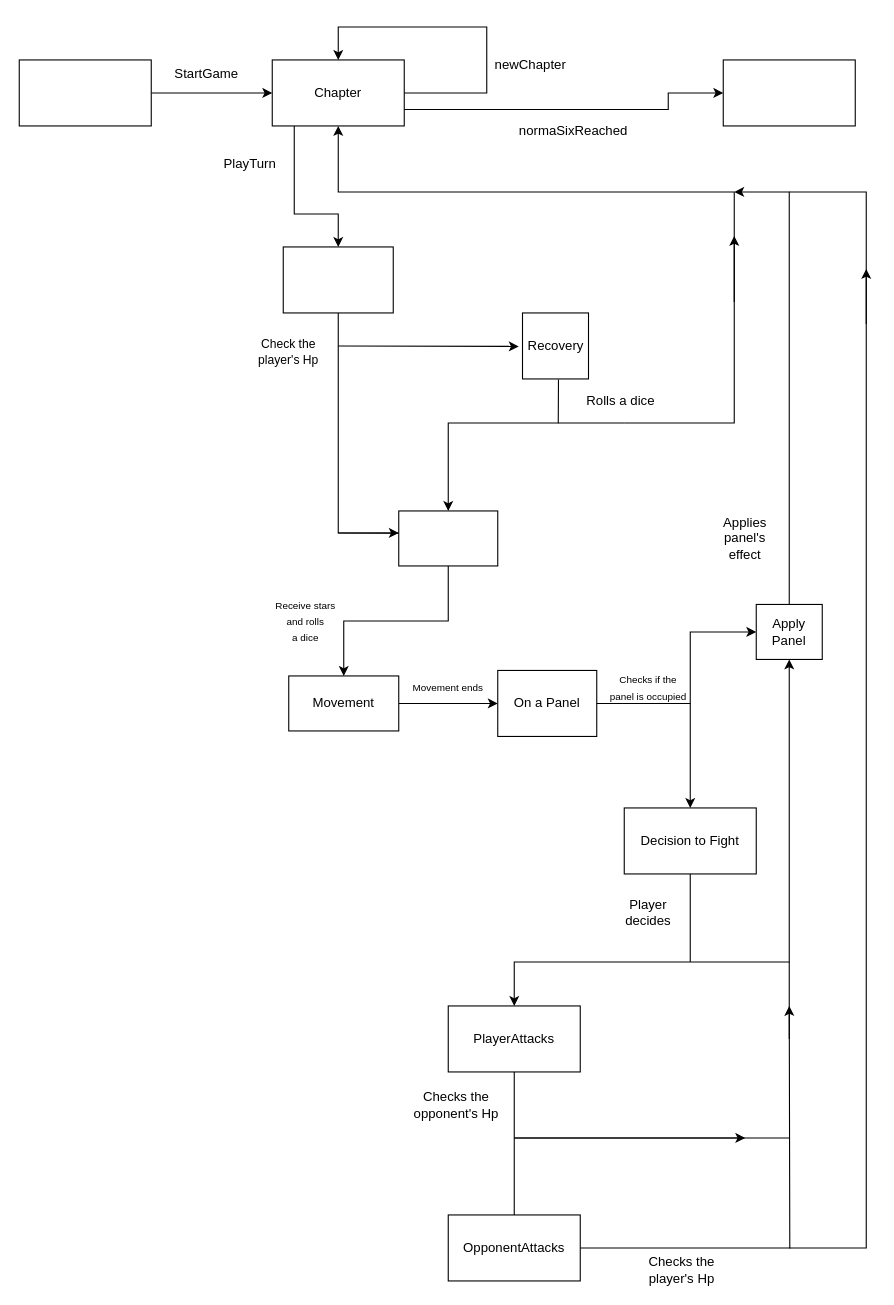
Image size: 894x1305. Some labels were removed from this diagram. The centre of each missing label's shape, as x and y in pixels:
Can play: point (448, 538)
EndGame: point (788, 92)
Player's turn: point (337, 279)
Pre-Game: point (84, 92)
